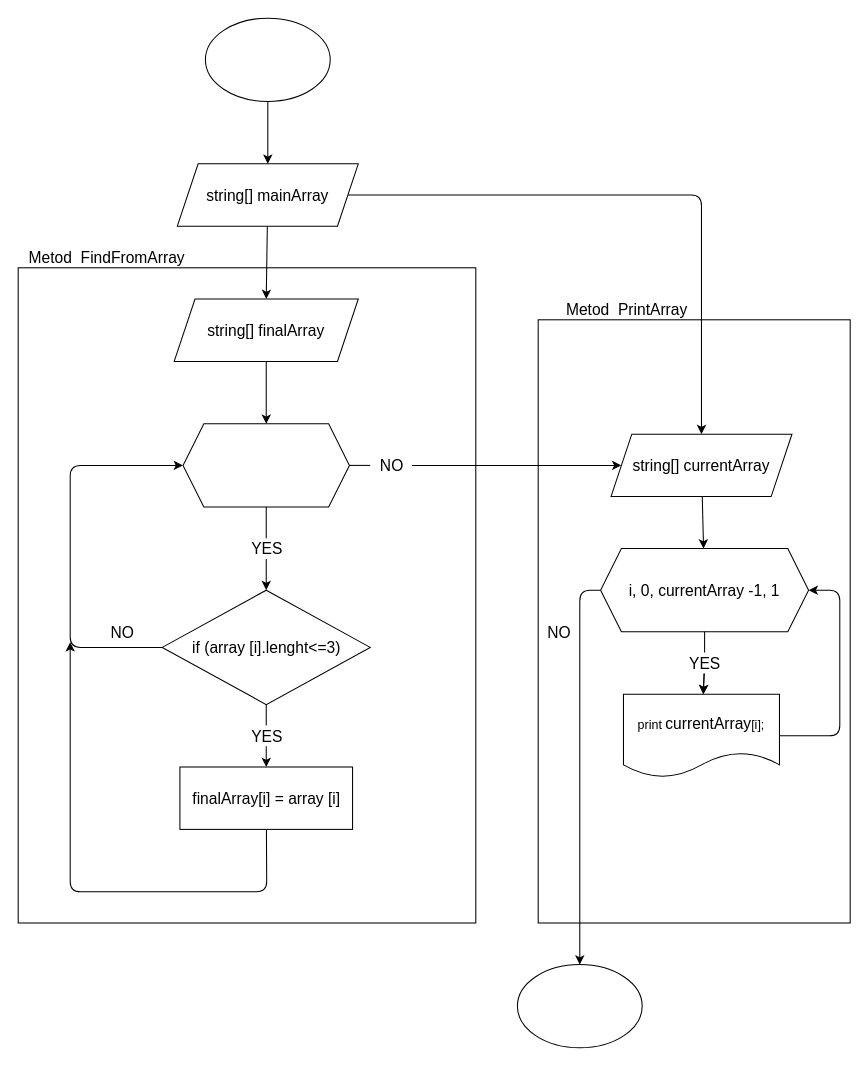
The diagram is 868 pixels wide and 1066 high, and some of its shapes have lost their labels. The box of each missing label's shape, as (x1, y1, x2, y2) in pixels:
i, 0, arrayLenght -1, 1: (182, 423, 349, 507)
Start: (204, 17, 330, 101)
Stop: (516, 964, 642, 1048)
